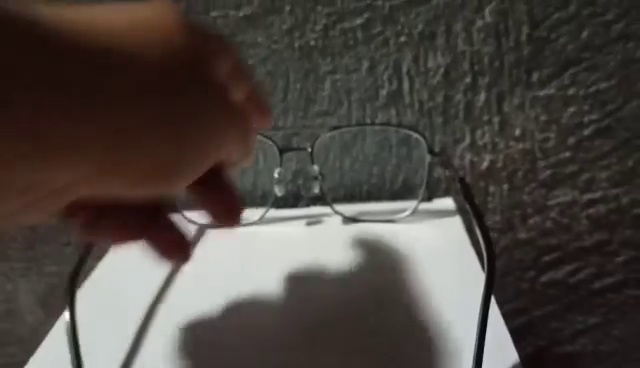glasses: (60, 123, 498, 368)
